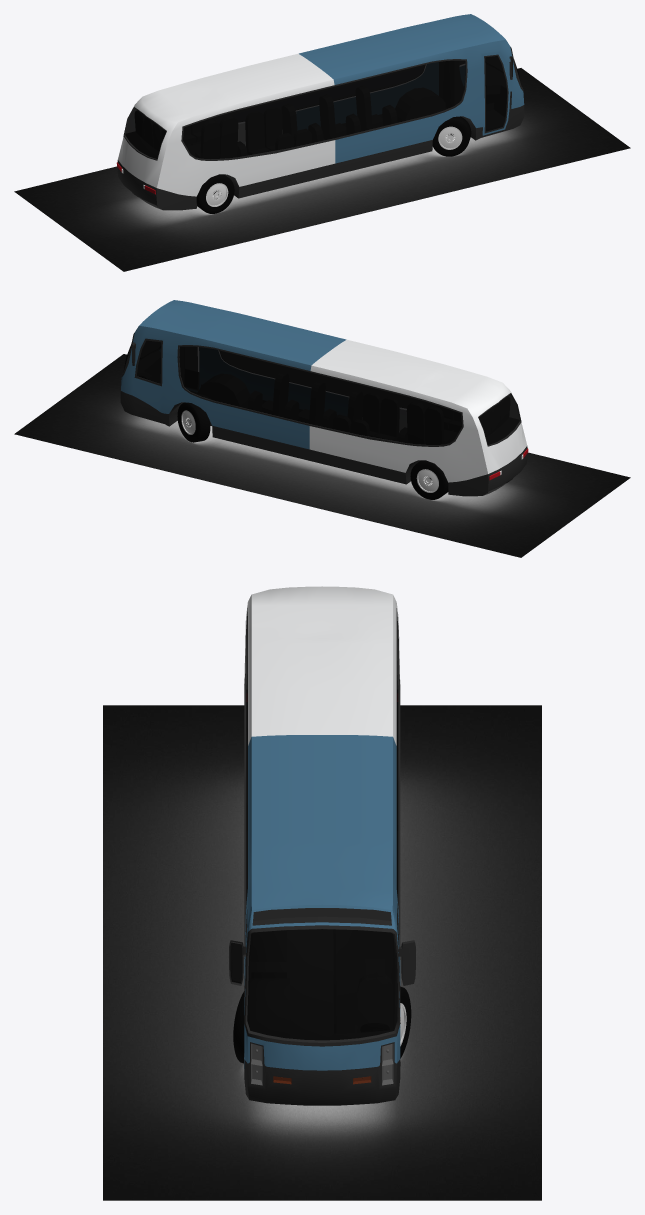
File: autobus_urbano.glb
The picture shows the model from 3 angles, top to bottom: view 1: azimuth 30°, elevation 25°; view 2: azimuth 150°, elevation 25°; view 3: azimuth 270°, elevation 25°; orthographic projection. The views are drawn at different scales.
Visible parts, largest first — view 1: carroceria, sombra_piso, rueda_6, rueda_7; view 2: carroceria, sombra_piso, rueda_4, rueda_5; view 3: sombra_piso, carroceria.
Boxes of the visible parts, box(x1,y1,x2,y2) form: carroceria: box(116, 14, 524, 210); sombra_piso: box(14, 68, 630, 271); rueda_6: box(432, 116, 471, 156); rueda_7: box(196, 174, 234, 213); carroceria: box(120, 300, 528, 496); sombra_piso: box(14, 354, 630, 557); rueda_4: box(410, 460, 448, 499); rueda_5: box(177, 402, 210, 442); sombra_piso: box(103, 705, 541, 1200); carroceria: box(229, 586, 415, 1105).
Bounding box in the file's own units: 16 × 3.2 × 6.
15 materials, 2 textured.
